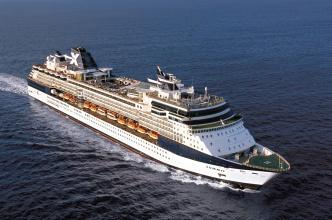youlun: (25, 44, 289, 187)
